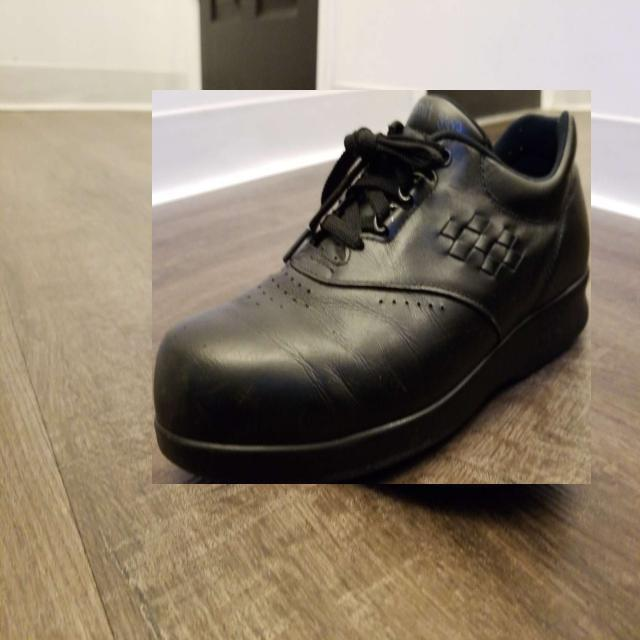shoe: (152, 90, 591, 484)
